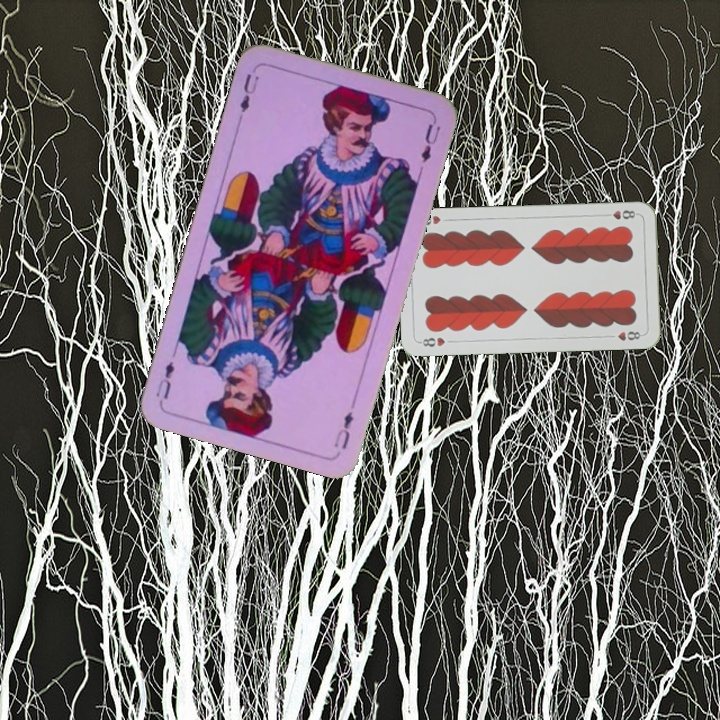EU: (330, 407, 357, 452), (236, 69, 262, 115)
H8: (600, 206, 640, 222), (416, 333, 448, 349)
